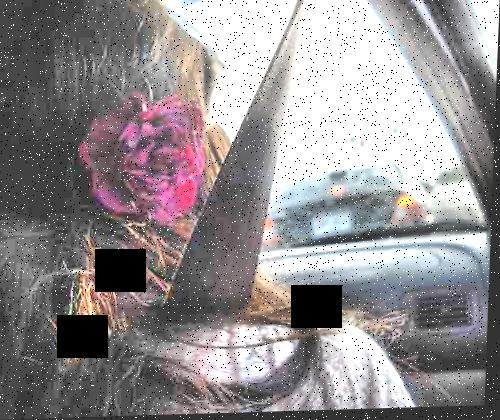seatbelt: (160, 0, 317, 321)
